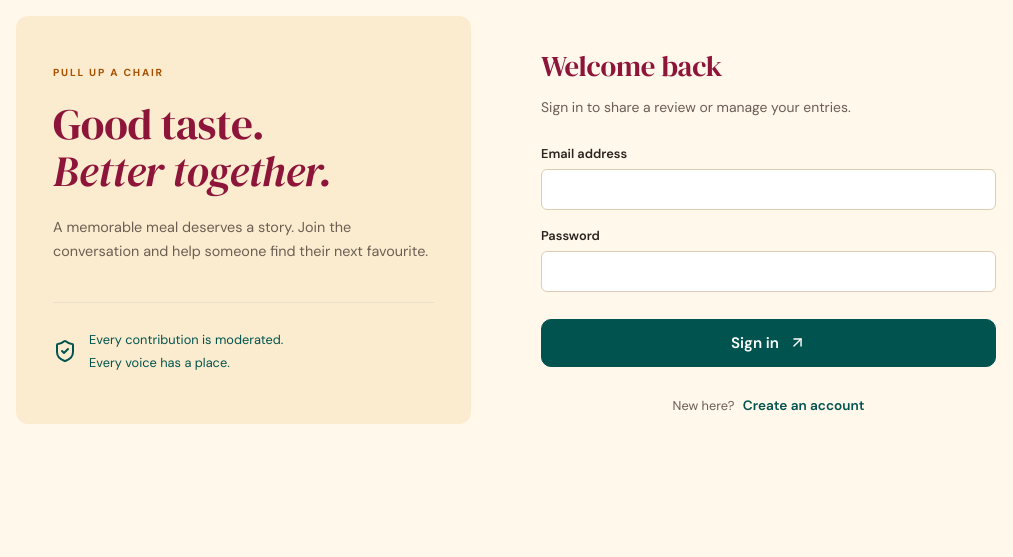
Test: Account registration › switches to a registration form with a name field and a 12-character password rule
Click the button "Create an account" at (804, 406), box x1=743 y1=391 x2=864 y2=421
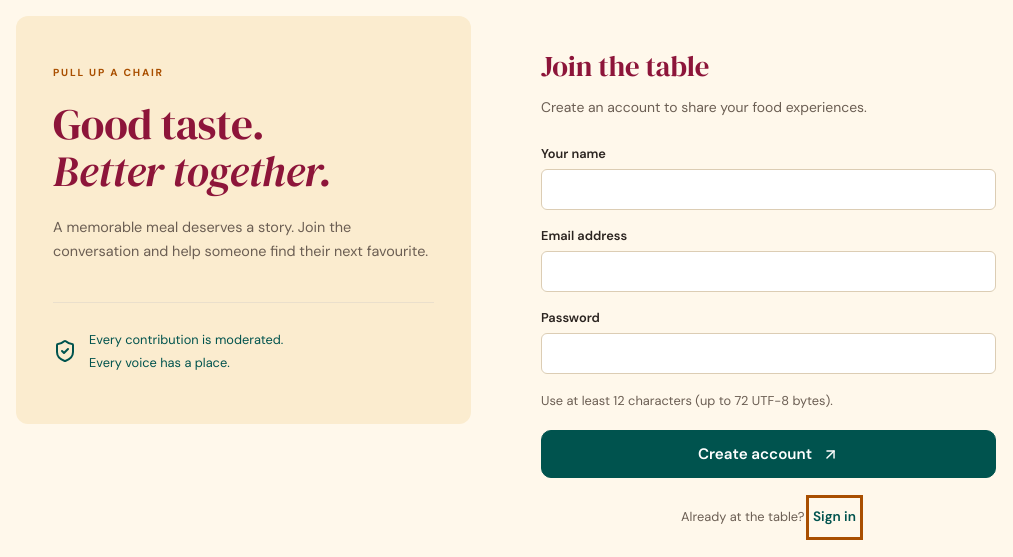
Result: the heading "Join the table" is shown at x1=541 y1=46 x2=709 y2=86
Result: the text "Use at least 12 characters (up to 72 UTF-8 bytes)." is shown at x1=541 y1=392 x2=833 y2=409
